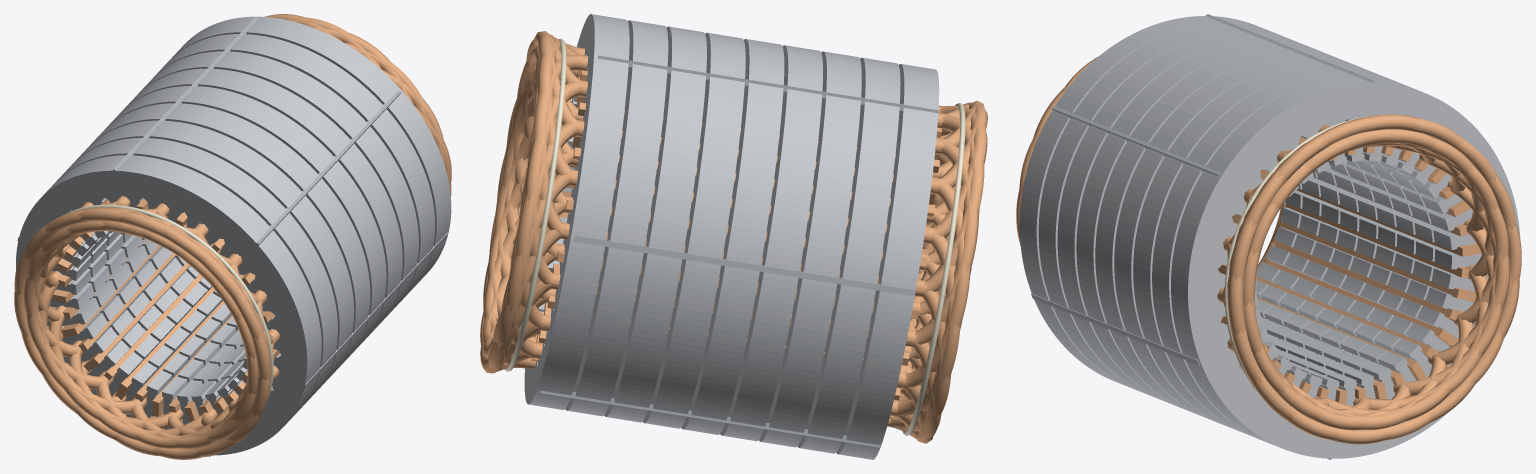
The model's file is induction_statorAsm.glb.
3 views of the same model, side by side, from view 1: azimuth 30°, elevation 25°; view 2: azimuth 150°, elevation 25°; view 3: azimuth 270°, elevation 25° (orthographic). The views are drawn at different scales.
Bounding box in the file's own units: 1.14 × 0.9126 × 1.06.
